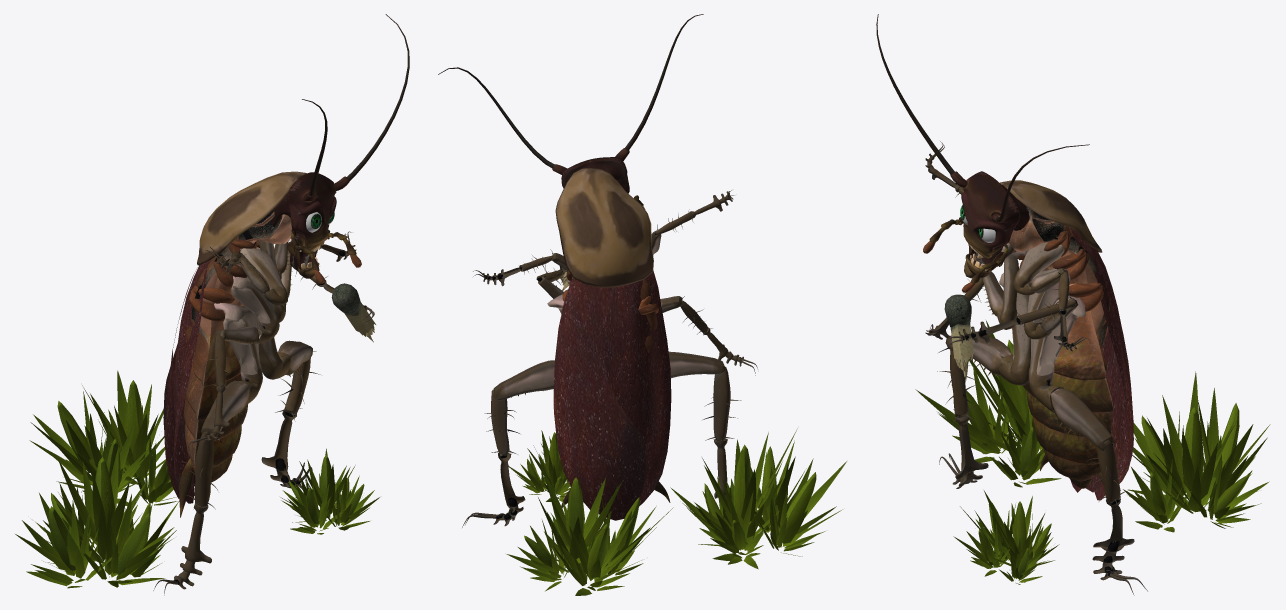
The model's file is Source.fbx.
3 views of the same model, side by side, from view 1: azimuth 30°, elevation 25°; view 2: azimuth 150°, elevation 25°; view 3: azimuth 270°, elevation 25° (orthographic). The views are drawn at different scales.
Visible parts, largest first — view 1: 8095a1b2-0dc8-4683-8b68-e3e811b32391, a4ba73f2-071a-4431-860e-9545207616d8, 774ba67d-8e80-4b44-914d-2b19ad1b9d3d, c0e5fec7-48f5-41af-ab3a-d6912b7b29d2, 160bceb1-a9a6-4b90-a033-ab29affdf1f8, 9debb5eb-e01e-4eb3-bb9a-dec988e57e4e, 3b8c5d6a-857f-4f8b-ba0b-a3ec40b81bc0, 901a9e2f-f6fa-47d4-99e5-6af2cbe58e00, 2b8d4d46-ec8b-491b-8a51-cd30962e9d4d, 7720e441-442a-4670-a341-f73a3e8272db, 6dca3403-b4c8-4727-9811-5792d425f082, e291afd2-e34d-459a-ab7f-a72efe150d33 (+7 smaller); view 2: a8d50fa6-051f-4dcb-912a-89fde9df68e5, 8095a1b2-0dc8-4683-8b68-e3e811b32391, 9debb5eb-e01e-4eb3-bb9a-dec988e57e4e, 901a9e2f-f6fa-47d4-99e5-6af2cbe58e00, a4ba73f2-071a-4431-860e-9545207616d8, 2b8d4d46-ec8b-491b-8a51-cd30962e9d4d, c0e5fec7-48f5-41af-ab3a-d6912b7b29d2, 160bceb1-a9a6-4b90-a033-ab29affdf1f8, 6bd714d7-a943-45f5-8987-541597a17a05, 3b8c5d6a-857f-4f8b-ba0b-a3ec40b81bc0, 6dca3403-b4c8-4727-9811-5792d425f082, 7720e441-442a-4670-a341-f73a3e8272db (+5 smaller); view 3: a4ba73f2-071a-4431-860e-9545207616d8, 774ba67d-8e80-4b44-914d-2b19ad1b9d3d, 8095a1b2-0dc8-4683-8b68-e3e811b32391, c0e5fec7-48f5-41af-ab3a-d6912b7b29d2, 2b8d4d46-ec8b-491b-8a51-cd30962e9d4d, 160bceb1-a9a6-4b90-a033-ab29affdf1f8, 3b8c5d6a-857f-4f8b-ba0b-a3ec40b81bc0, 6bd714d7-a943-45f5-8987-541597a17a05, 4981e530-bb35-4d3b-b545-4fcce1f10295, f70c6932-516c-4eb6-8efc-6f4a9c5219b5, 9debb5eb-e01e-4eb3-bb9a-dec988e57e4e, 7156f072-ef7d-4c88-86b8-27936555ce8a (+7 smaller).
Boxes of the visible parts, x1=… form: 8095a1b2-0dc8-4683-8b68-e3e811b32391: x1=15, y1=446, x2=178, y2=588; a4ba73f2-071a-4431-860e-9545207616d8: x1=29, y1=370, x2=177, y2=506; 774ba67d-8e80-4b44-914d-2b19ad1b9d3d: x1=178, y1=210, x2=291, y2=517; c0e5fec7-48f5-41af-ab3a-d6912b7b29d2: x1=153, y1=303, x2=262, y2=595; 160bceb1-a9a6-4b90-a033-ab29affdf1f8: x1=280, y1=448, x2=379, y2=534; 9debb5eb-e01e-4eb3-bb9a-dec988e57e4e: x1=197, y1=171, x2=306, y2=265; 3b8c5d6a-857f-4f8b-ba0b-a3ec40b81bc0: x1=270, y1=172, x2=349, y2=278; 901a9e2f-f6fa-47d4-99e5-6af2cbe58e00: x1=173, y1=259, x2=211, y2=503; 2b8d4d46-ec8b-491b-8a51-cd30962e9d4d: x1=261, y1=340, x2=320, y2=488; 7720e441-442a-4670-a341-f73a3e8272db: x1=205, y1=245, x2=287, y2=305; 6dca3403-b4c8-4727-9811-5792d425f082: x1=188, y1=326, x2=258, y2=452; e291afd2-e34d-459a-ab7f-a72efe150d33: x1=189, y1=239, x2=255, y2=321; a8d50fa6-051f-4dcb-912a-89fde9df68e5: x1=553, y1=278, x2=645, y2=520; 8095a1b2-0dc8-4683-8b68-e3e811b32391: x1=670, y1=428, x2=846, y2=569; 9debb5eb-e01e-4eb3-bb9a-dec988e57e4e: x1=555, y1=167, x2=653, y2=287; 901a9e2f-f6fa-47d4-99e5-6af2cbe58e00: x1=609, y1=271, x2=671, y2=506; a4ba73f2-071a-4431-860e-9545207616d8: x1=506, y1=473, x2=673, y2=595; 2b8d4d46-ec8b-491b-8a51-cd30962e9d4d: x1=462, y1=360, x2=554, y2=527; c0e5fec7-48f5-41af-ab3a-d6912b7b29d2: x1=660, y1=301, x2=741, y2=498; 160bceb1-a9a6-4b90-a033-ab29affdf1f8: x1=508, y1=430, x2=571, y2=503; 6bd714d7-a943-45f5-8987-541597a17a05: x1=586, y1=287, x2=617, y2=509; 3b8c5d6a-857f-4f8b-ba0b-a3ec40b81bc0: x1=552, y1=148, x2=629, y2=193; 6dca3403-b4c8-4727-9811-5792d425f082: x1=660, y1=296, x2=757, y2=375; 7720e441-442a-4670-a341-f73a3e8272db: x1=651, y1=190, x2=734, y2=255; a4ba73f2-071a-4431-860e-9545207616d8: x1=1123, y1=371, x2=1270, y2=532; 774ba67d-8e80-4b44-914d-2b19ad1b9d3d: x1=998, y1=206, x2=1113, y2=488; 8095a1b2-0dc8-4683-8b68-e3e811b32391: x1=915, y1=320, x2=1061, y2=487; c0e5fec7-48f5-41af-ab3a-d6912b7b29d2: x1=937, y1=273, x2=1031, y2=488; 2b8d4d46-ec8b-491b-8a51-cd30962e9d4d: x1=1051, y1=388, x2=1147, y2=595; 160bceb1-a9a6-4b90-a033-ab29affdf1f8: x1=953, y1=490, x2=1059, y2=584; 3b8c5d6a-857f-4f8b-ba0b-a3ec40b81bc0: x1=950, y1=171, x2=1029, y2=277; 6bd714d7-a943-45f5-8987-541597a17a05: x1=1070, y1=228, x2=1127, y2=500; 4981e530-bb35-4d3b-b545-4fcce1f10295: x1=1013, y1=242, x2=1089, y2=351; f70c6932-516c-4eb6-8efc-6f4a9c5219b5: x1=948, y1=268, x2=1078, y2=344; 9debb5eb-e01e-4eb3-bb9a-dec988e57e4e: x1=999, y1=180, x2=1102, y2=252; 7156f072-ef7d-4c88-86b8-27936555ce8a: x1=1028, y1=296, x2=1085, y2=412.
Size of what is drawn, in the model's own units: 151 by 180 by 124.
10 materials, 10 textured.
